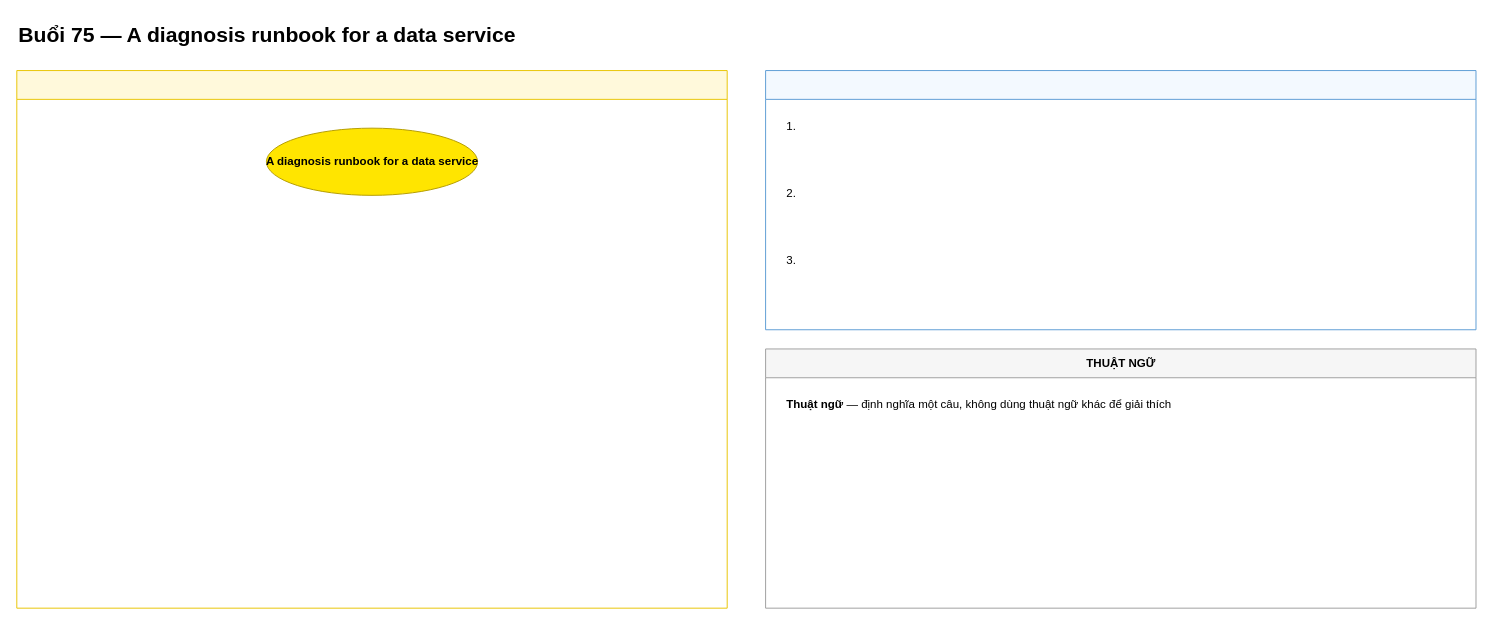
Some shapes in this 1493 by 625 pixel diagram are drawn without their labels. Each missing label, with the box of its shape:
KEY TAKEAWAY — ba điều phải nhớ: (765, 70, 1476, 330)
MINDMAP: (16, 70, 727, 608)
